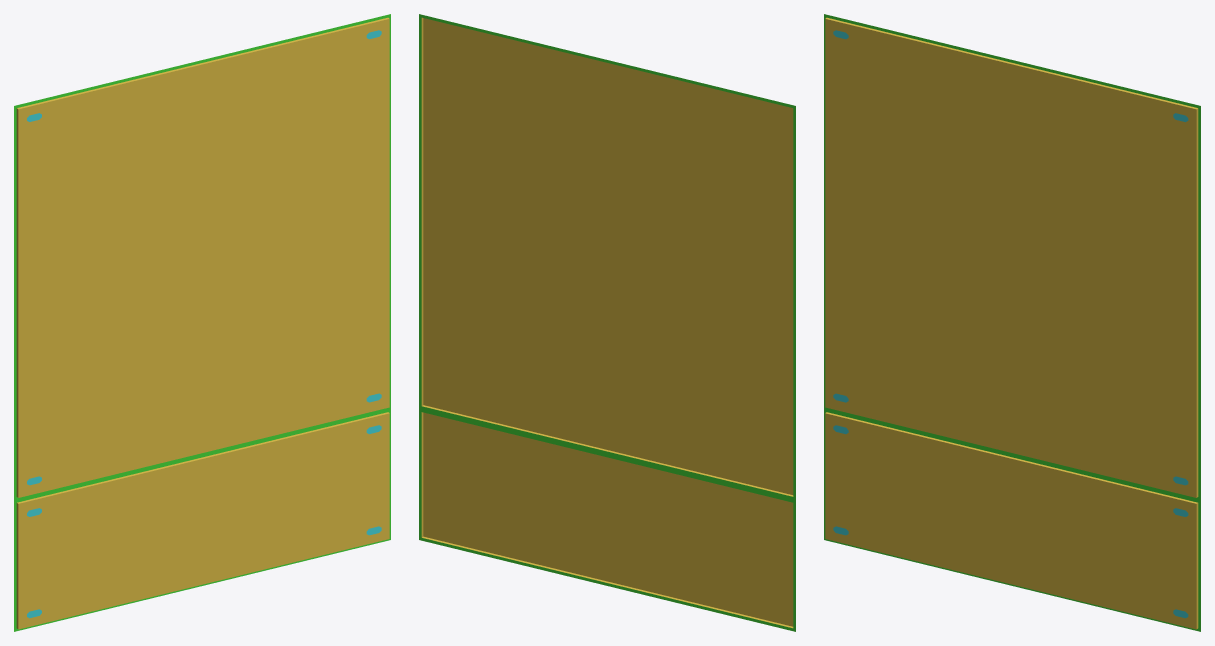
File: Wall_49_D.fbx
3 renders of one model, left to right at view 1: azimuth 30°, elevation 25°; view 2: azimuth 150°, elevation 25°; view 3: azimuth 330°, elevation 25°, orthographic.
Parts seen in each view (by area): view 1: Wall_49_D; view 2: Wall_49_D; view 3: Wall_49_D.
Boxes of the visible parts, <box> form: Wall_49_D: <box>14,14,390,631</box>; Wall_49_D: <box>419,14,795,631</box>; Wall_49_D: <box>824,14,1200,631</box>.
Bounding box in the file's own units: 343 × 457 × 2.72.
